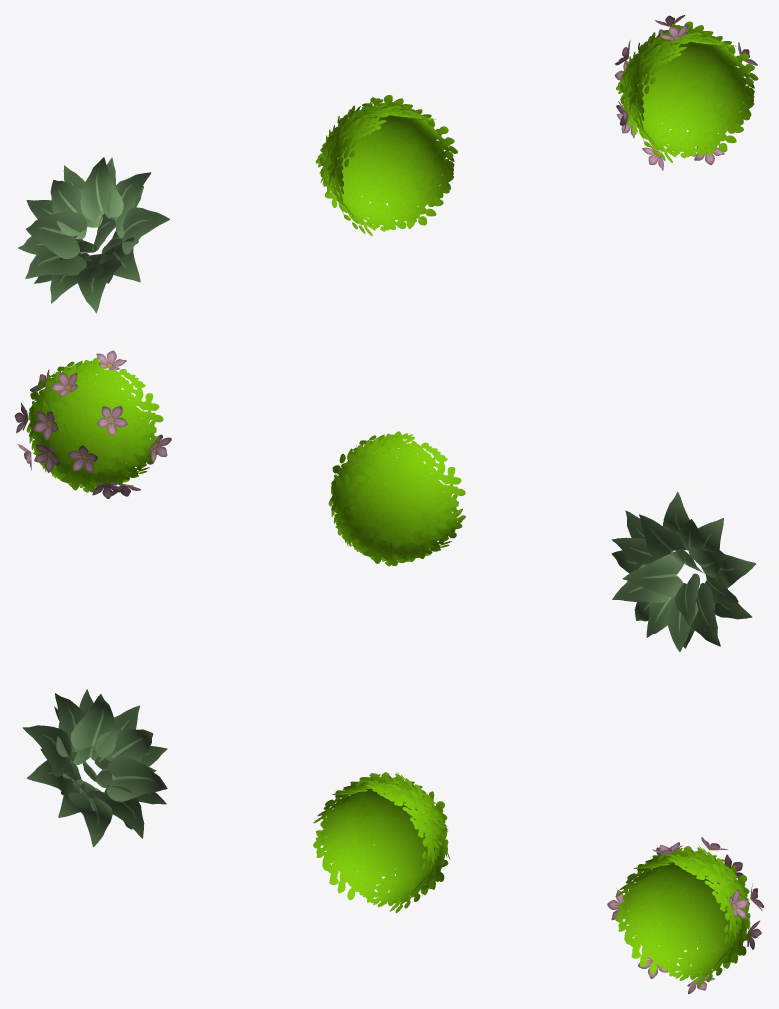
The model's file is Brushes1fix.fbx.
3 renders of one model, top to bottom at view 1: azimuth 30°, elevation 25°; view 2: azimuth 150°, elevation 25°; view 3: azimuth 330°, elevation 25°, orthographic.
Parts seen in each view (by area): view 1: Bush_Flowers, Bush, Plant_1; view 2: Bush_Flowers, Bush, Plant_1; view 3: Bush_Flowers, Bush, Plant_1.
Boxes of the visible parts, x1,y1,x2,y2 form: Bush_Flowers: [614, 15, 758, 170]; Bush: [315, 95, 457, 236]; Plant_1: [18, 157, 169, 313]; Bush_Flowers: [14, 350, 171, 498]; Bush: [328, 431, 465, 566]; Plant_1: [611, 492, 756, 651]; Bush_Flowers: [607, 837, 763, 994]; Bush: [313, 772, 450, 913]; Plant_1: [22, 689, 167, 847].
Bounding box in the file's own units: 604 × 128 × 76.53.
